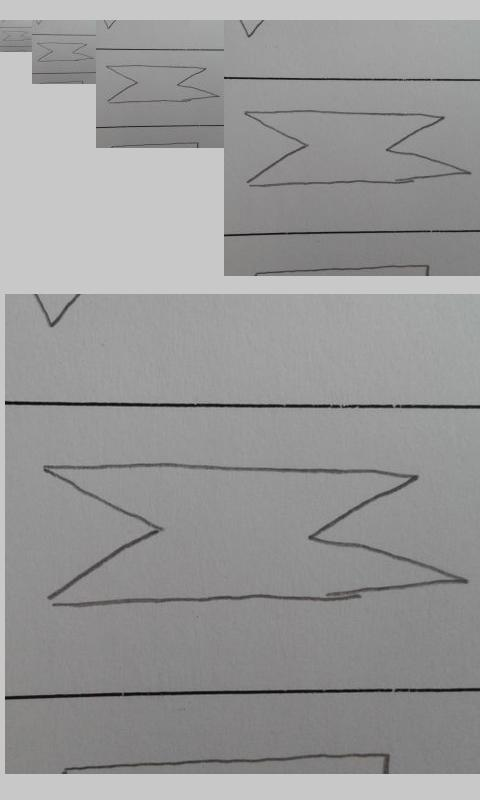edit_text: (40, 461, 465, 613), (244, 108, 472, 188), (105, 64, 221, 104), (37, 42, 93, 62), (2, 30, 31, 42)
